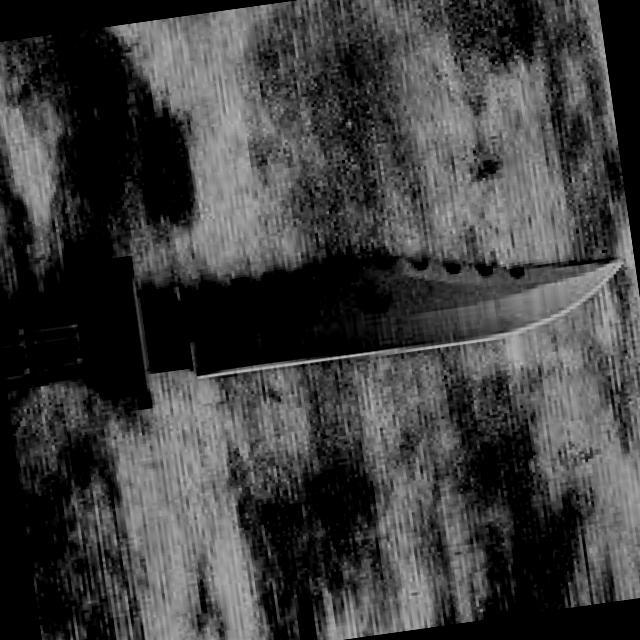Knife: (0, 171, 640, 480)
